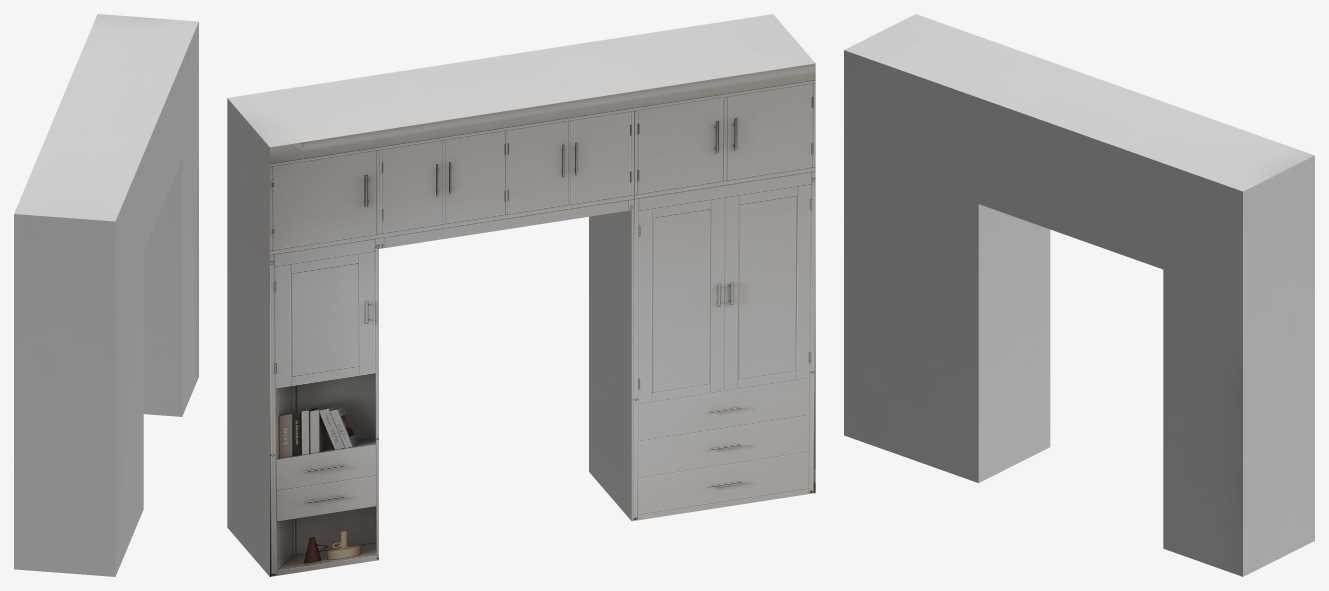
3 renders of one model, left to right at view 1: azimuth 30°, elevation 25°; view 2: azimuth 150°, elevation 25°; view 3: azimuth 270°, elevation 25°, orthographic. The views are drawn at different scales.
Parts seen in each view (by area): view 1: Cube036_closet_hc_0; view 2: Cube036_closet_hc_0; view 3: Cube036_closet_hc_0.
Boxes of the visible parts, x1=… form: Cube036_closet_hc_0: x1=14, y1=14, x2=198, y2=576; Cube036_closet_hc_0: x1=227, y1=14, x2=815, y2=576; Cube036_closet_hc_0: x1=844, y1=14, x2=1314, y2=576.
Size of the model in its own units: 2.44 by 2.47 by 2.73.
Materials: 1 (1 with a texture image).
